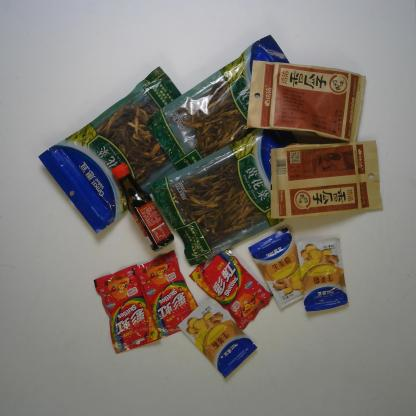Candy: (188, 250, 277, 334), (87, 262, 164, 358), (131, 247, 203, 340)
Dried Food: (36, 63, 190, 237), (143, 119, 305, 268), (144, 34, 300, 174), (240, 57, 372, 147), (262, 137, 386, 222)
Seasoner: (174, 298, 260, 382), (107, 158, 176, 256), (247, 224, 313, 313), (295, 231, 350, 314)
